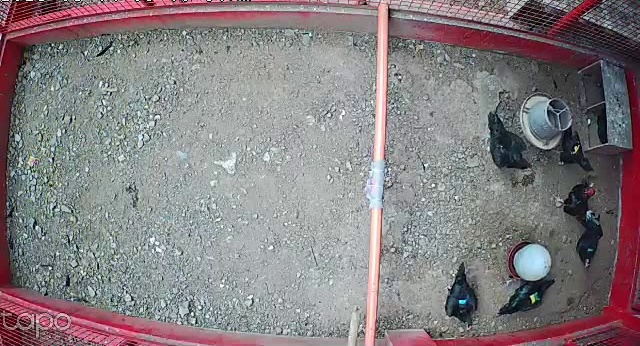Chicken: (481, 106, 535, 175), (442, 258, 480, 329), (552, 121, 599, 175), (497, 276, 557, 318), (577, 226, 601, 271)
Rooster: (550, 179, 604, 233)
Saddle_Color_Blue: (457, 298, 468, 305)
Saddle_Color_Yellow: (572, 143, 580, 154)
Saddle_Color_YellowGreen: (530, 292, 539, 304)
